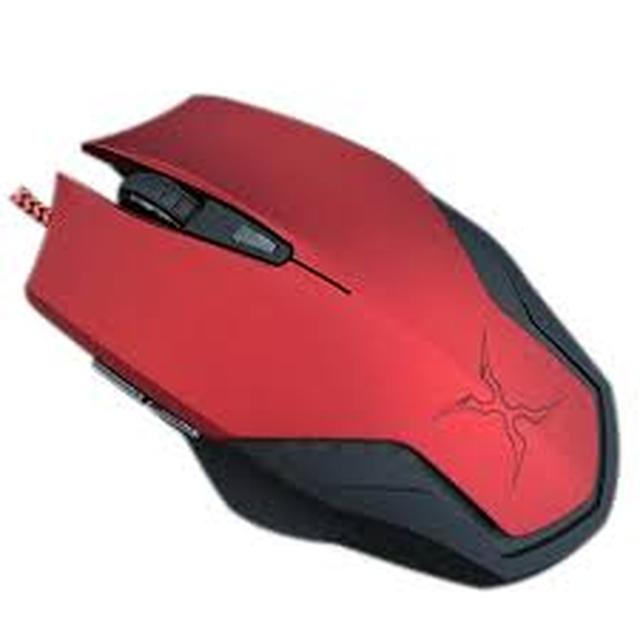mouse: (15, 62, 619, 586)
